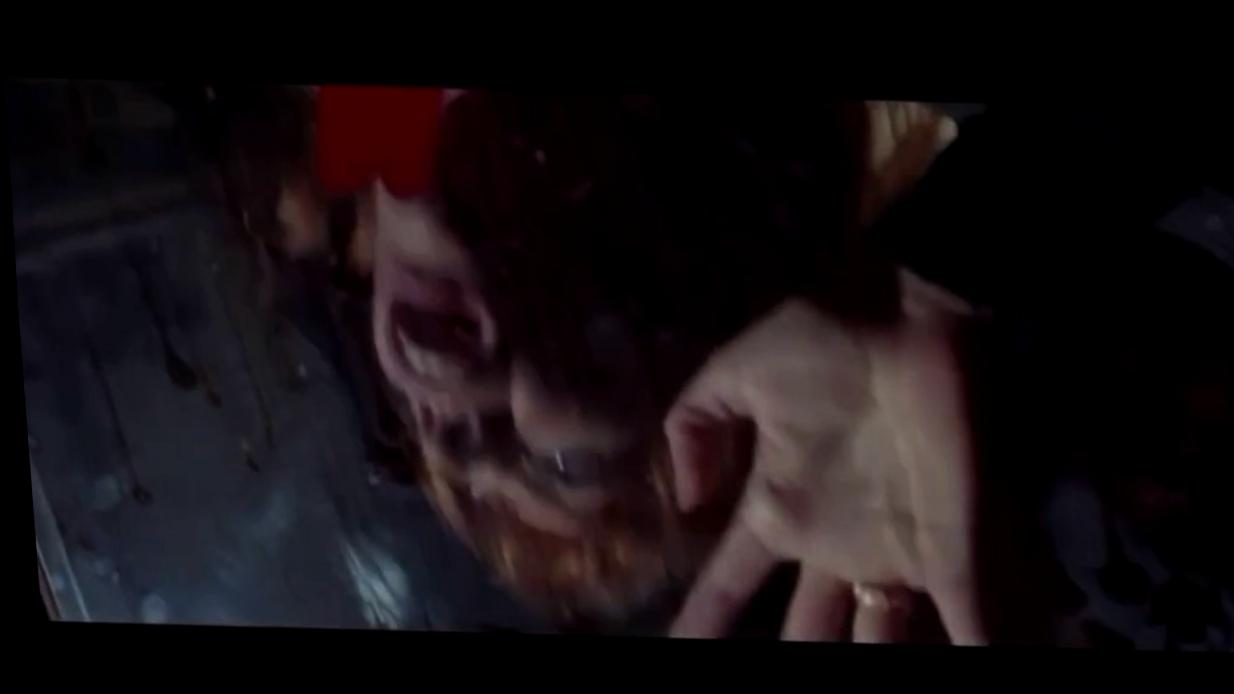Fire: (313, 81, 440, 191)
